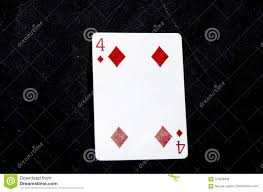four of diamonds: (92, 30, 189, 162)
